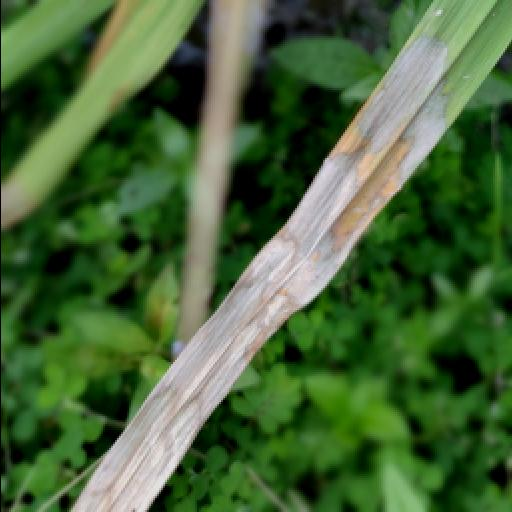Sheath Blight: (58, 26, 454, 512)
